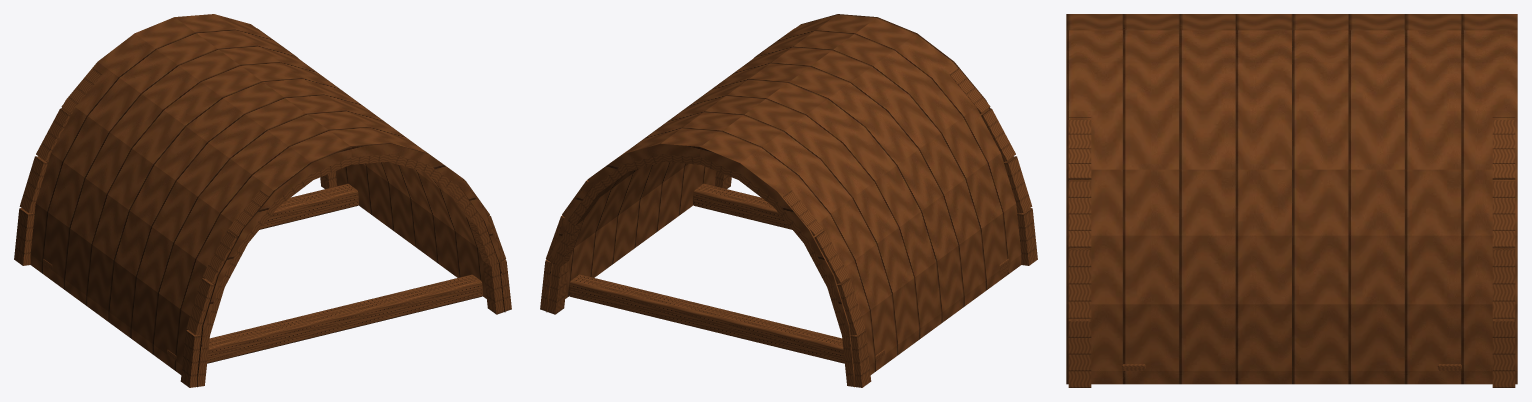
File: rural-scavenging-settlements-washhouse-barrel-roof-98f51ecf__26498.glb
3 views of the same model, side by side, from view 1: azimuth 30°, elevation 25°; view 2: azimuth 150°, elevation 25°; view 3: azimuth 270°, elevation 25° (orthographic). The views are drawn at different scales.
Parts seen in each view (by area): view 1: washhouse-barrel-roof; view 2: washhouse-barrel-roof; view 3: washhouse-barrel-roof.
Boxes of the visible parts, <box> form: washhouse-barrel-roof: <box>14,14,511,387</box>; washhouse-barrel-roof: <box>540,14,1037,387</box>; washhouse-barrel-roof: <box>1066,14,1517,387</box>.
Size of the model in its own units: 2.1 by 1.27 by 2.
Materials: 1 (1 with a texture image).
